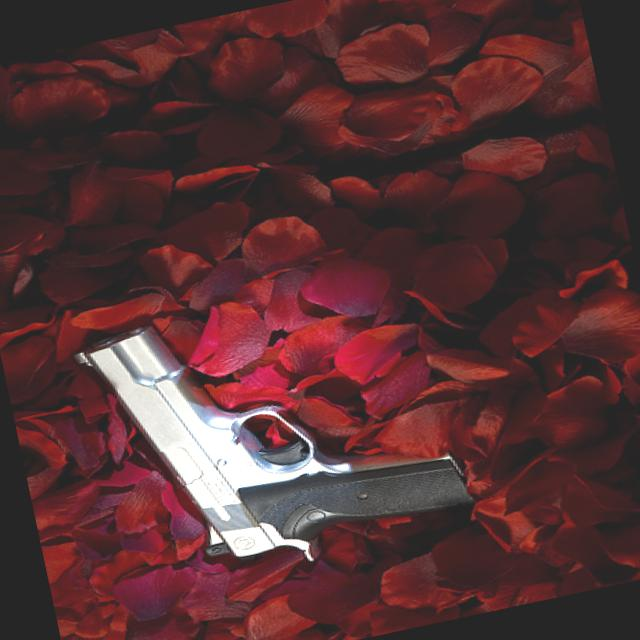handgun: (66, 263, 483, 603)
